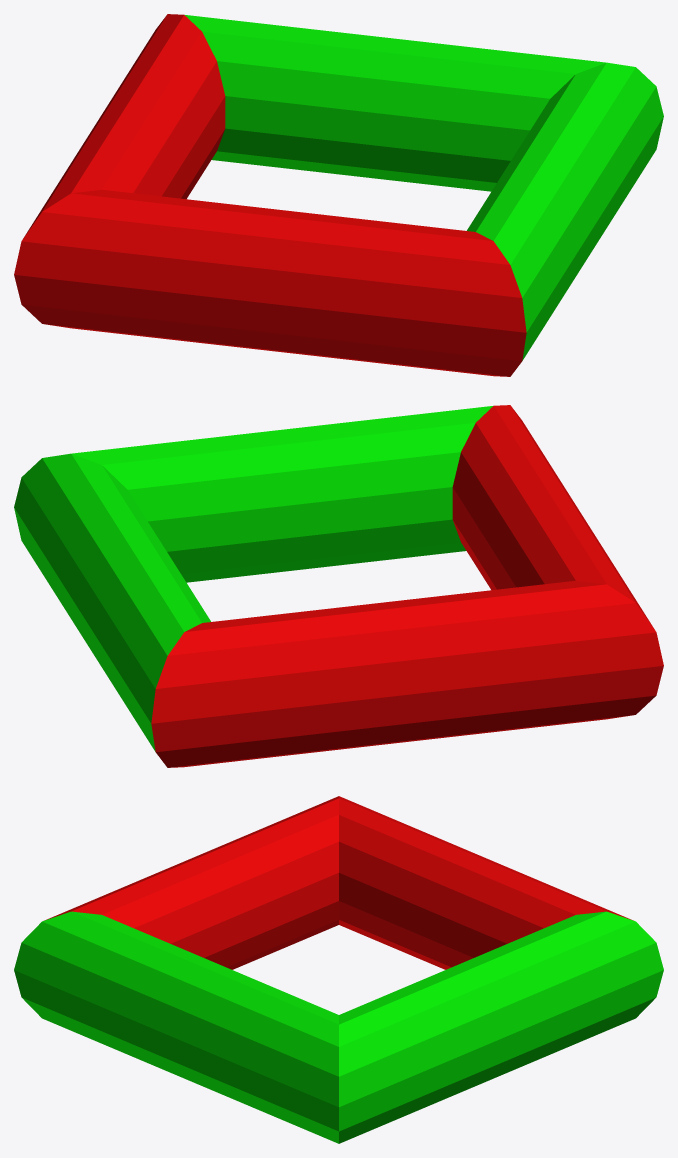
The model's file is StackFallsDemo_Object_2.fbx.
3 views of the same model, one above another, from view 1: azimuth 30°, elevation 25°; view 2: azimuth 150°, elevation 25°; view 3: azimuth 270°, elevation 25° (orthographic). The views are drawn at different scales.
Visible parts, largest first — view 1: Torus.009, Torus.011, Torus.010, Torus.012; view 2: Torus.012, Torus.010, Torus.011, Torus.009; view 3: Torus.010, Torus.011, Torus.009, Torus.012.
Boxes of the visible parts, <box> form: Torus.009: <box>14,189,526,376</box>; Torus.011: <box>185,15,605,191</box>; Torus.010: <box>467,62,663,360</box>; Torus.012: <box>23,14,225,238</box>; Torus.012: <box>151,580,663,767</box>; Torus.010: <box>72,406,492,582</box>; Torus.011: <box>14,453,210,751</box>; Torus.009: <box>452,405,654,629</box>; Torus.010: <box>14,911,338,1143</box>; Torus.011: <box>339,911,663,1143</box>; Torus.009: <box>44,796,338,969</box>; Torus.012: <box>339,796,633,969</box>.
Size of the model in its own units: 250 by 49.64 by 250.
